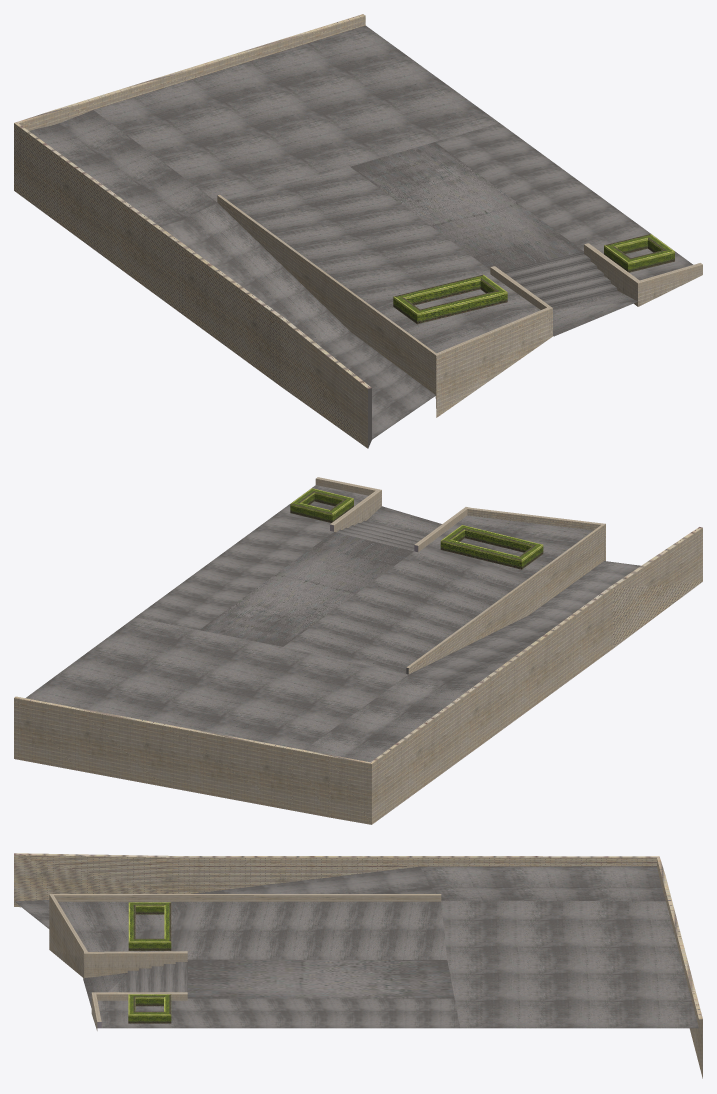
File: lawngrndasas.obj
3 renders of one model, top to bottom at view 1: azimuth 30°, elevation 25°; view 2: azimuth 150°, elevation 25°; view 3: azimuth 270°, elevation 25°, orthographic. The views are drawn at different scales.
Visible parts, largest first — view 1: lawngrndasas; view 2: lawngrndasas; view 3: lawngrndasas.
Boxes of the visible parts, <box> form: lawngrndasas: <box>14,14,702,448</box>; lawngrndasas: <box>14,477,702,824</box>; lawngrndasas: <box>14,853,702,1078</box>.
Size of the model in its own units: 38.93 by 6.64 by 68.14.
